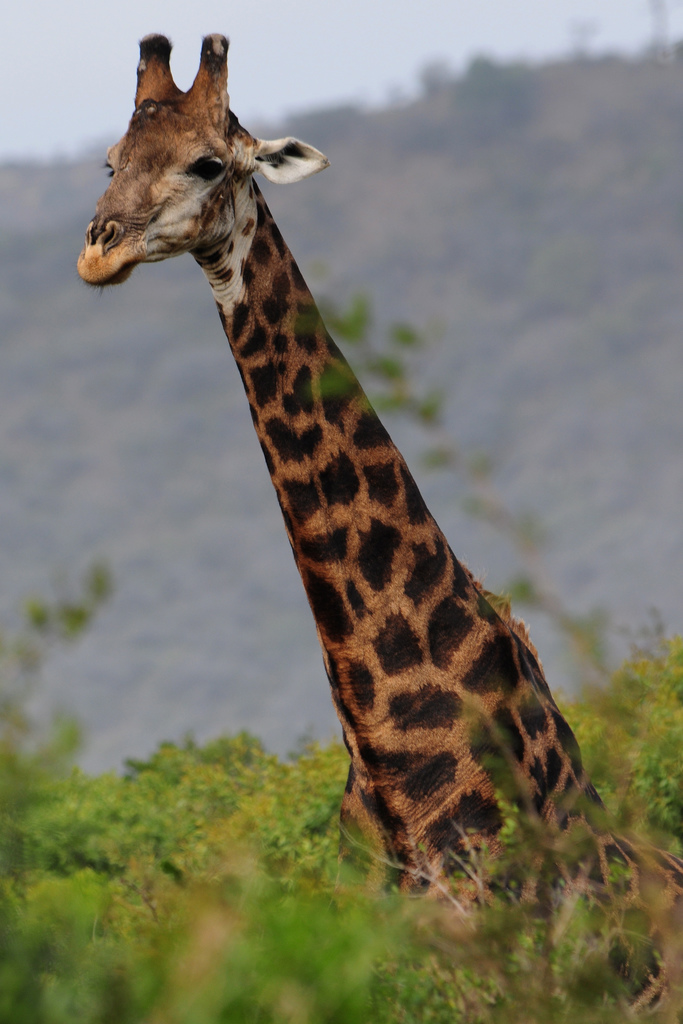giraffe: (82, 36, 586, 869)
